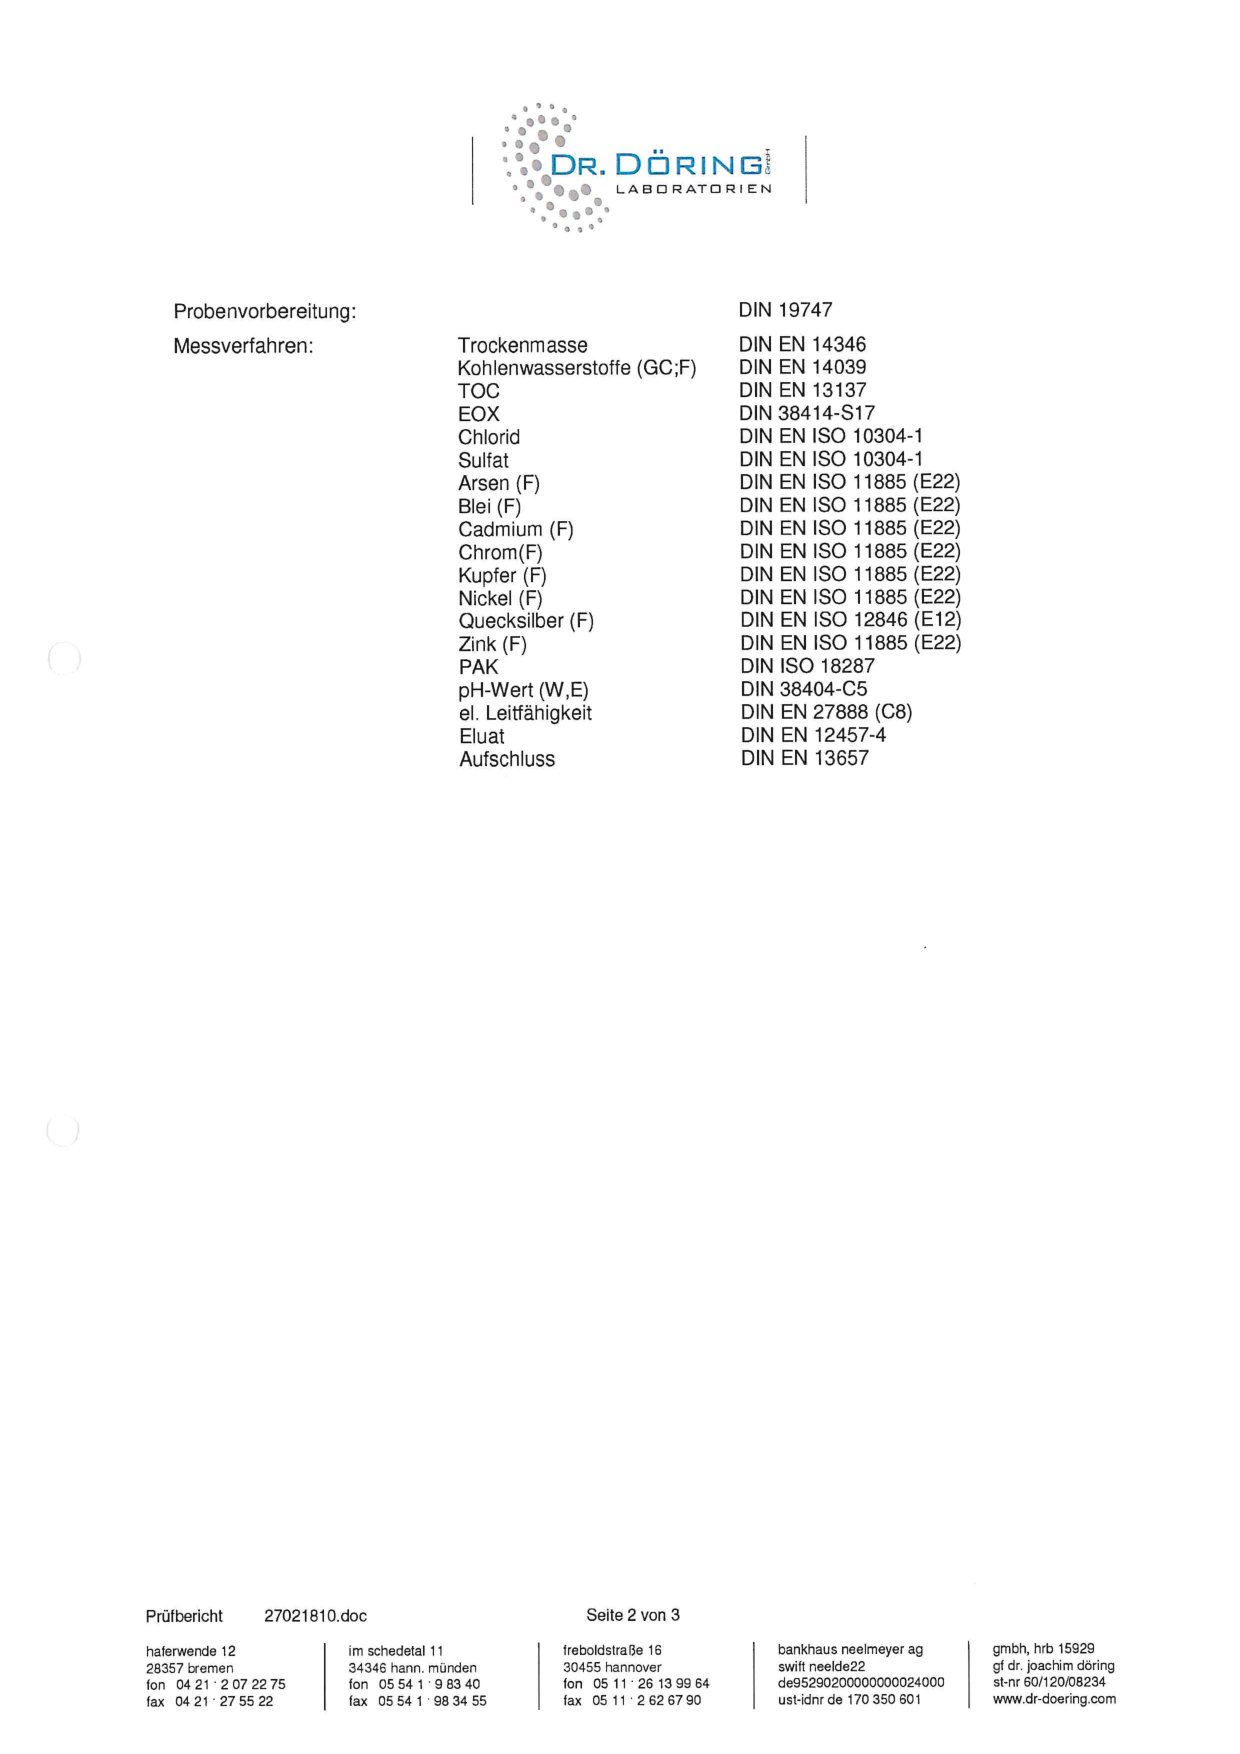table: (437, 289, 977, 794)
